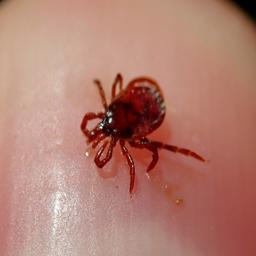Rhipicephalus sanguineus: (80, 73, 205, 194)
